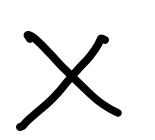mult: (14, 30, 123, 132)
